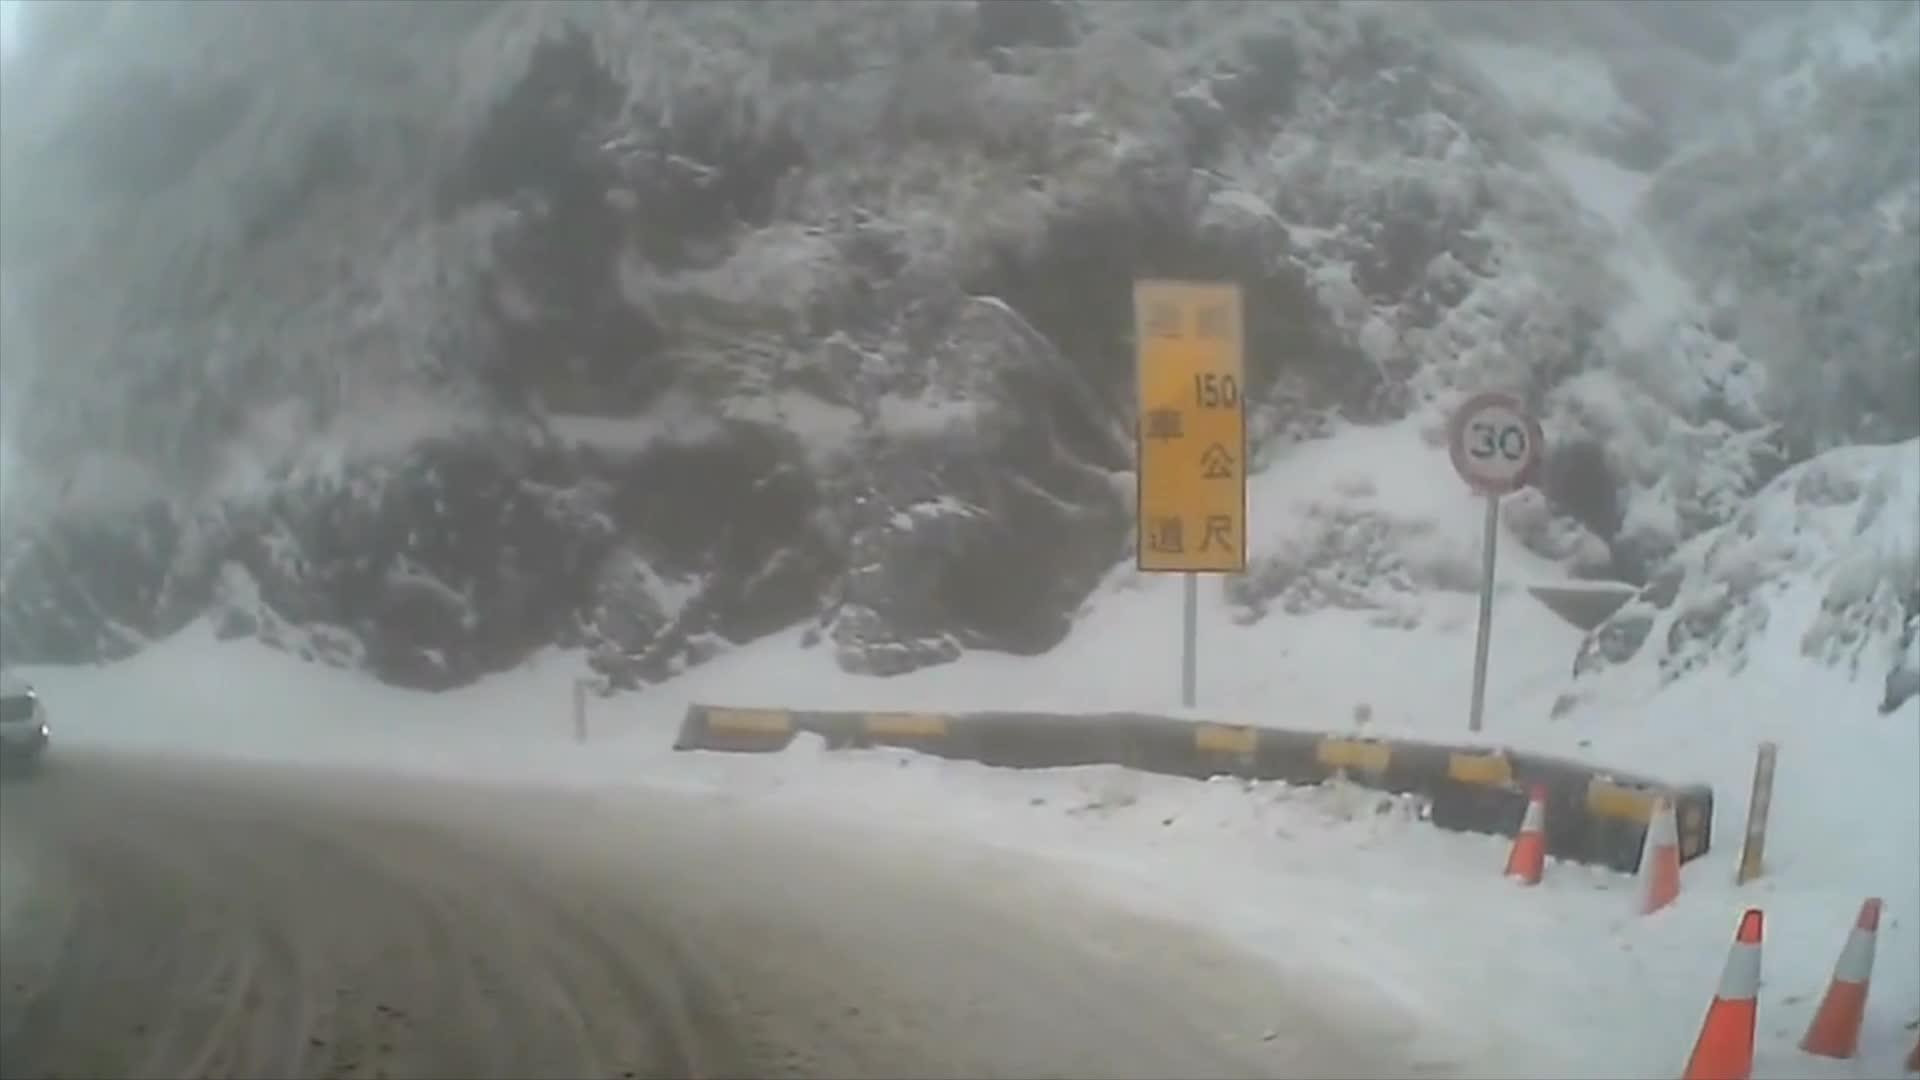vehicle: (0, 670, 49, 774)
